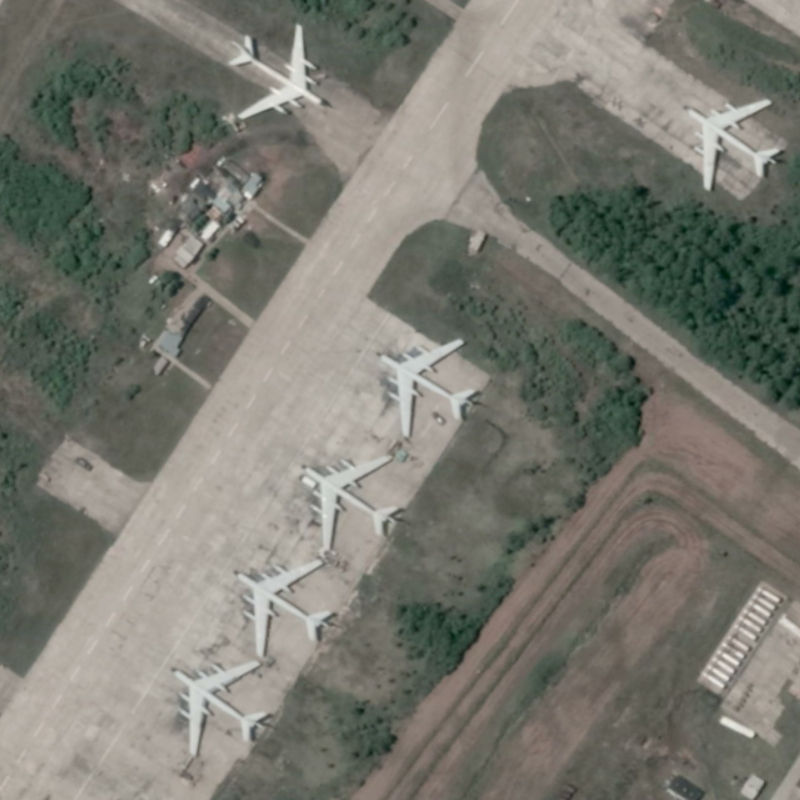A17: (230, 556, 341, 662), (223, 20, 334, 124), (373, 335, 482, 440), (298, 449, 406, 554), (678, 95, 788, 195), (168, 657, 274, 759)
